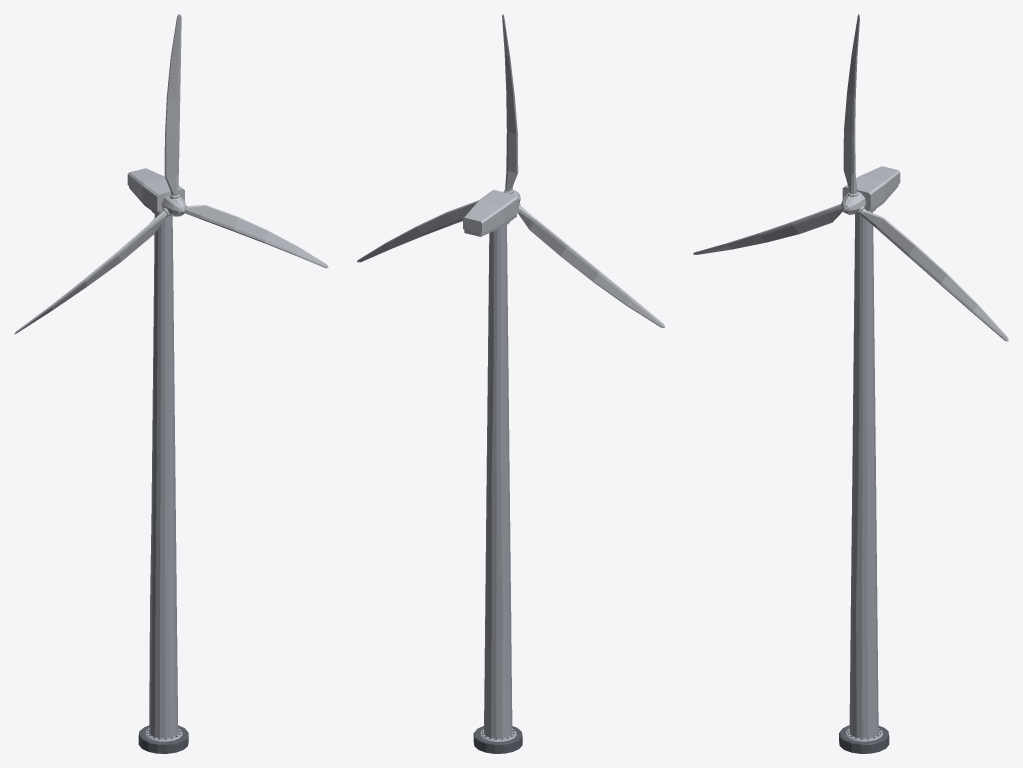
File: wind_turbine.glb
3 renders of one model, left to right at view 1: azimuth 30°, elevation 25°; view 2: azimuth 150°, elevation 25°; view 3: azimuth 330°, elevation 25°, orthographic. The views are drawn at different scales.
Visible parts, largest first — view 1: SM_Prop_Windfarm_01, SM_Prop_Windfarm_Blades_01; view 2: SM_Prop_Windfarm_01, SM_Prop_Windfarm_Blades_01; view 3: SM_Prop_Windfarm_01, SM_Prop_Windfarm_Blades_01.
Boxes of the visible parts, x1,y1,x2,y2 form: SM_Prop_Windfarm_01: (127, 168, 188, 753); SM_Prop_Windfarm_Blades_01: (14, 14, 328, 334); SM_Prop_Windfarm_01: (463, 190, 522, 753); SM_Prop_Windfarm_Blades_01: (357, 14, 664, 327); SM_Prop_Windfarm_01: (839, 166, 900, 753); SM_Prop_Windfarm_Blades_01: (693, 14, 1008, 341).
Size of the model in its own units: 11.93 by 26.7 by 3.01.
Materials: 1 (1 with a texture image).
